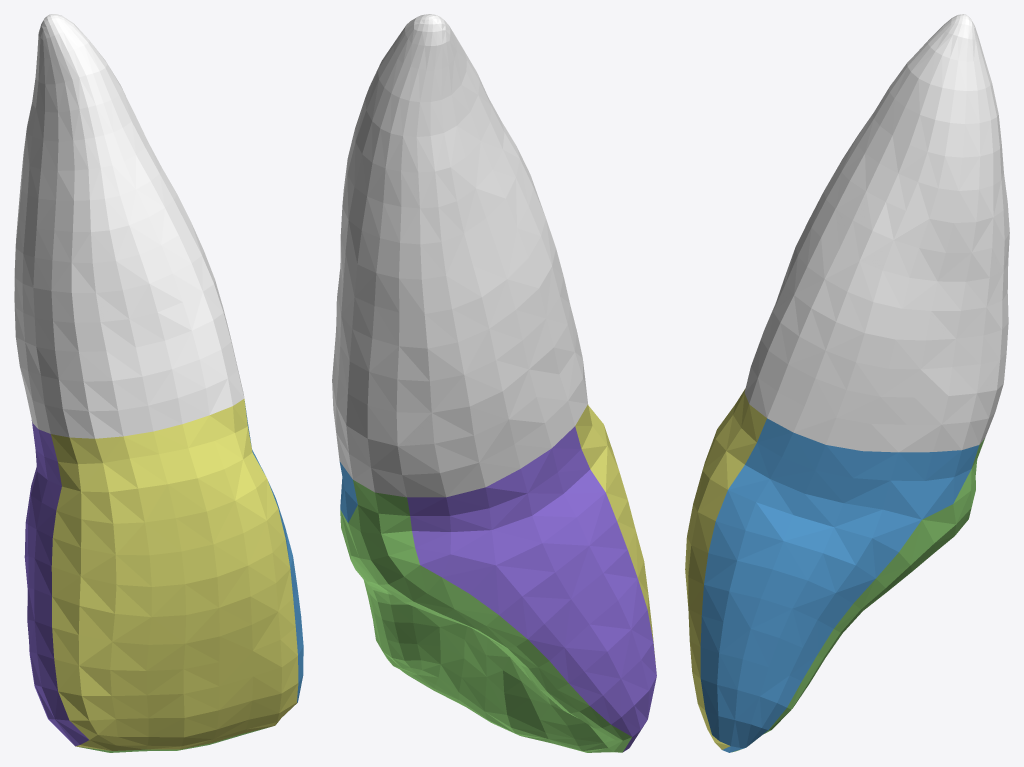
The model's file is tooth_11_annotated.glb.
3 renders of one model, left to right at view 1: azimuth 30°, elevation 25°; view 2: azimuth 150°, elevation 25°; view 3: azimuth 270°, elevation 25°, orthographic. The views are drawn at different scales.
Visible parts, largest first — view 1: FDI_11; view 2: FDI_11; view 3: FDI_11.
Boxes of the visible parts, left/top/right/bottom form: FDI_11: left=14, top=14, right=303, bottom=752; FDI_11: left=332, top=14, right=656, bottom=752; FDI_11: left=685, top=14, right=1009, bottom=752.
Bounding box in the file's own units: 0.0078 × 0.0212 × 0.00902.
